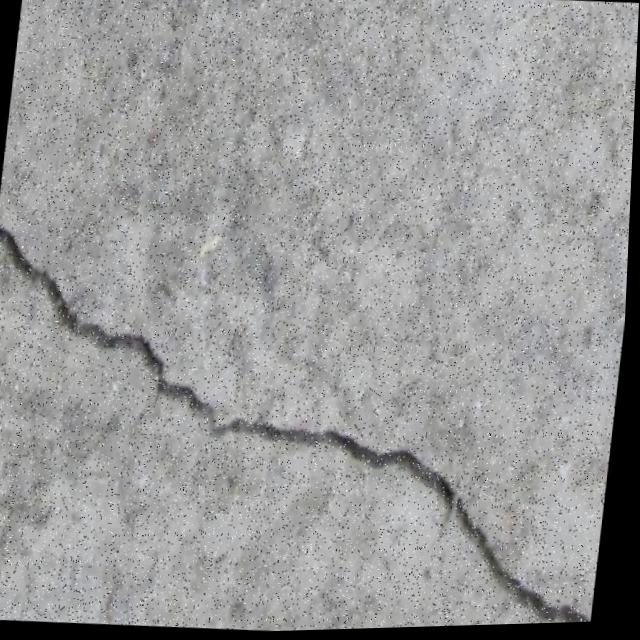Crack: (0, 196, 633, 640)
